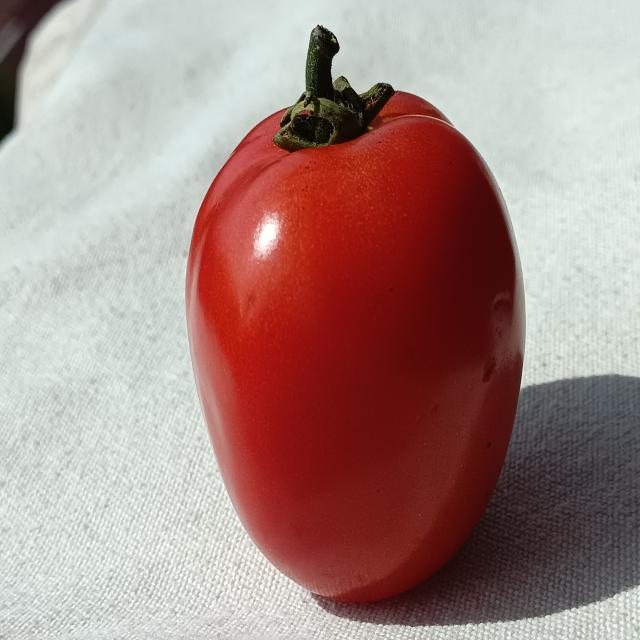Masak: (154, 59, 566, 606)
